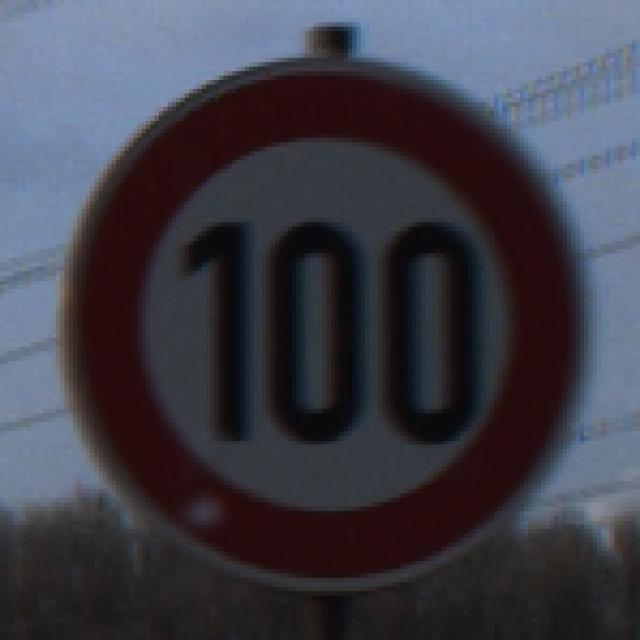speed limit 100: (61, 64, 591, 599)
